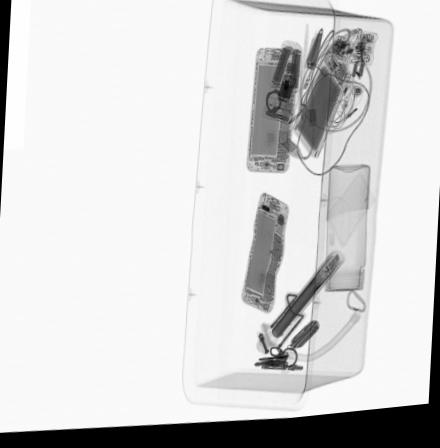Powerbank: (293, 46, 352, 170)
